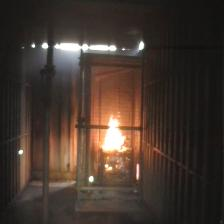fire: (101, 112, 125, 153)
